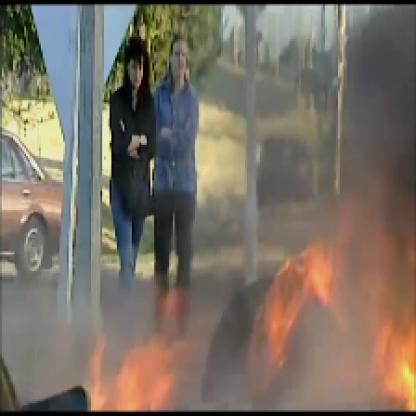Fire: (86, 219, 414, 414)
